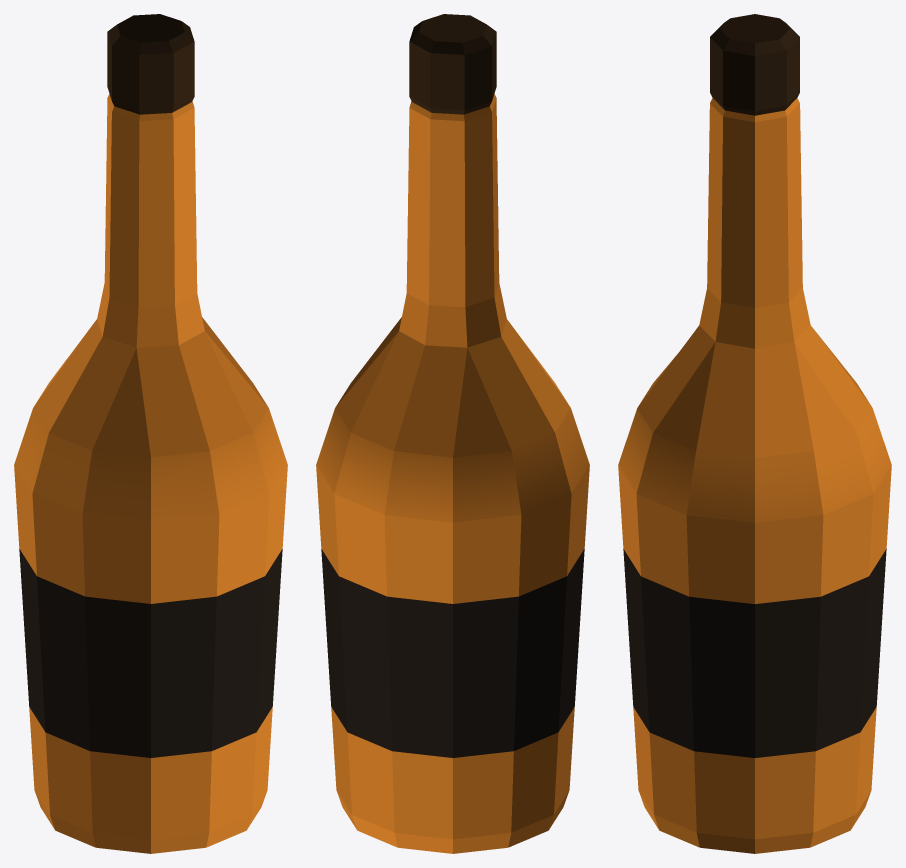
File: Wine 4.fbx
The picture shows the model from 3 angles, left to right: view 1: azimuth 30°, elevation 25°; view 2: azimuth 150°, elevation 25°; view 3: azimuth 270°, elevation 25°; orthographic projection.
Parts seen in each view (by area): view 1: Node 0; view 2: Node 0; view 3: Node 0.
Boxes of the visible parts, <box> form: Node 0: <box>14,14,287,853</box>; Node 0: <box>316,14,589,853</box>; Node 0: <box>618,14,891,853</box>.
Bounding box in the file's own units: 0.0856 × 0.2685 × 0.0856.
